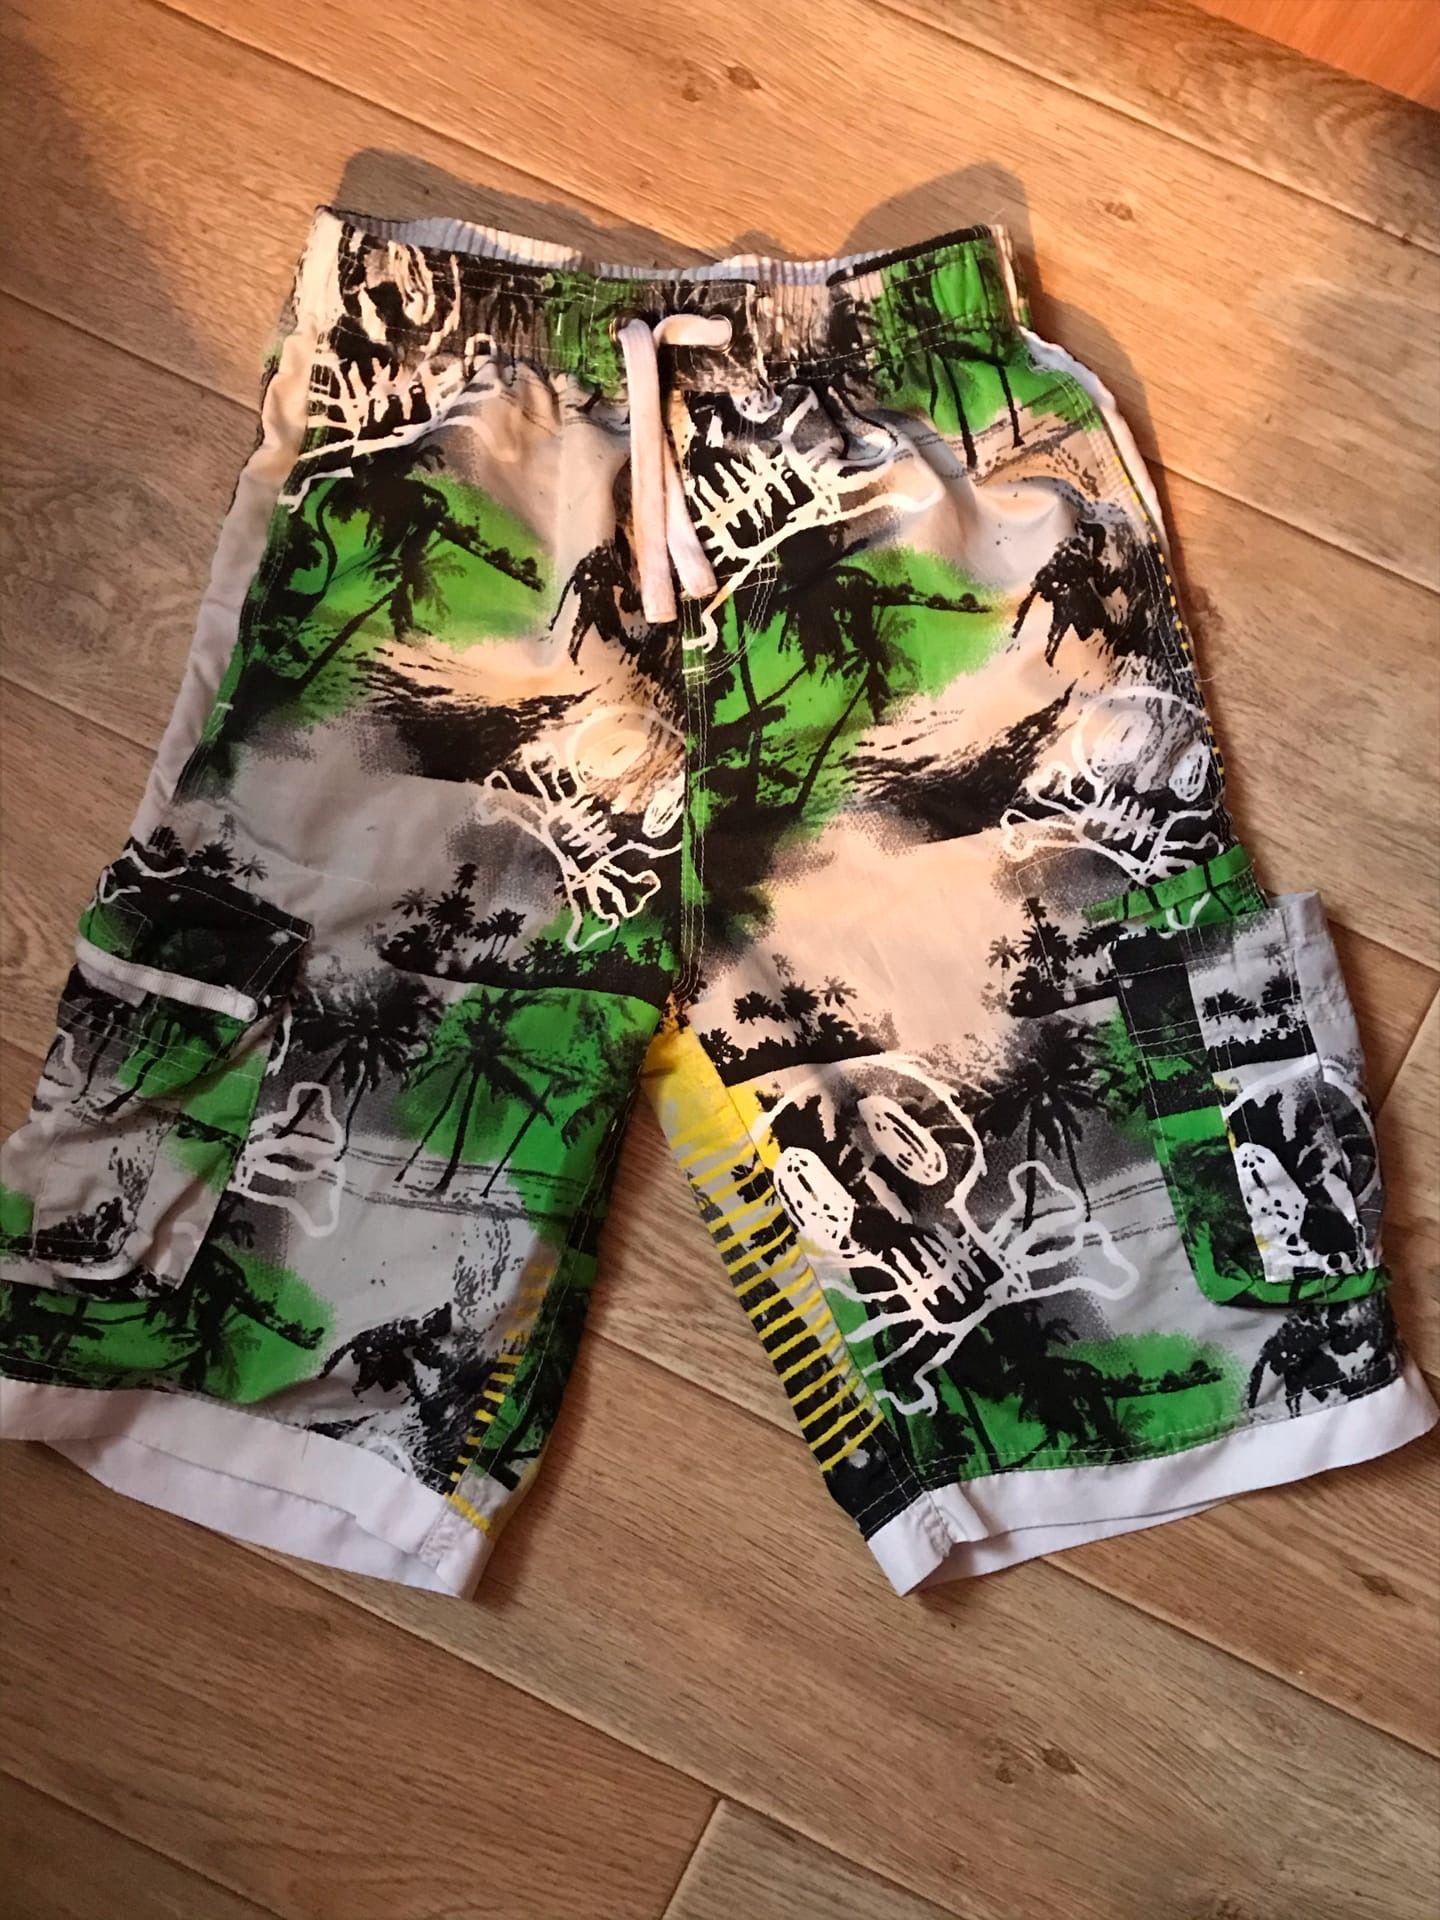clothes: (45, 190, 1425, 1612)
